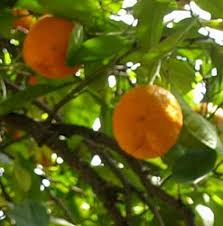orange: (110, 80, 187, 162), (21, 12, 91, 79)
